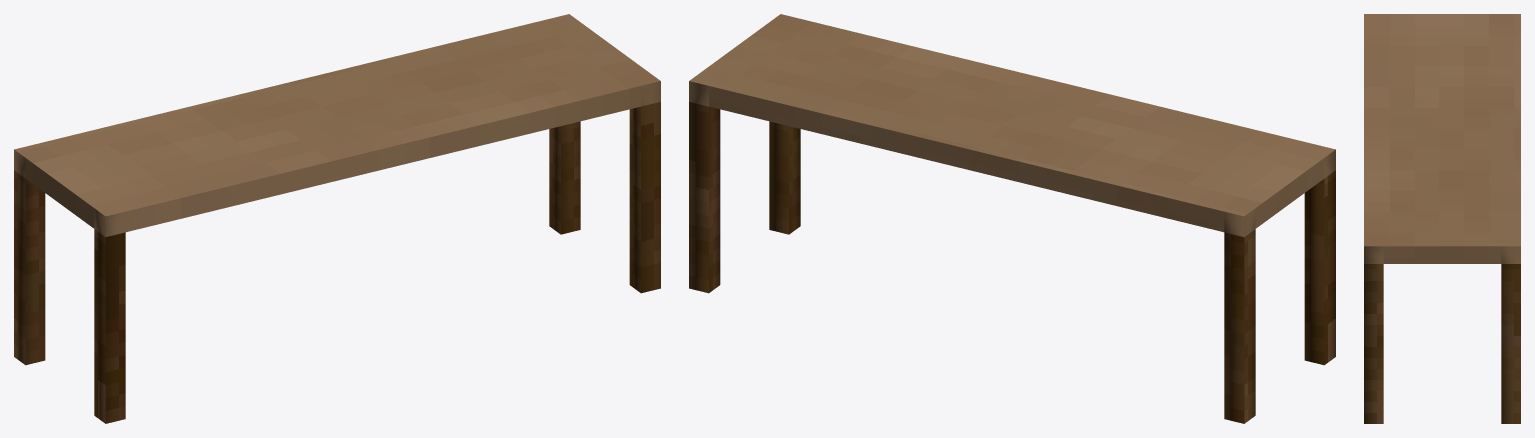
File: long_wooden_table.glb
3 renders of one model, left to right at view 1: azimuth 30°, elevation 25°; view 2: azimuth 150°, elevation 25°; view 3: azimuth 270°, elevation 25°, orthographic. The views are drawn at different scales.
Parts seen in each view (by area): view 1: LongTable; view 2: LongTable; view 3: LongTable.
Part boxes in pixels (x1,y1,x2,y2): LongTable: (14, 14, 660, 423); LongTable: (689, 14, 1335, 423); LongTable: (1364, 14, 1520, 423).
Bounding box in the file's own units: 2.8 × 1 × 0.8.
Materials: 2 (2 with a texture image).
